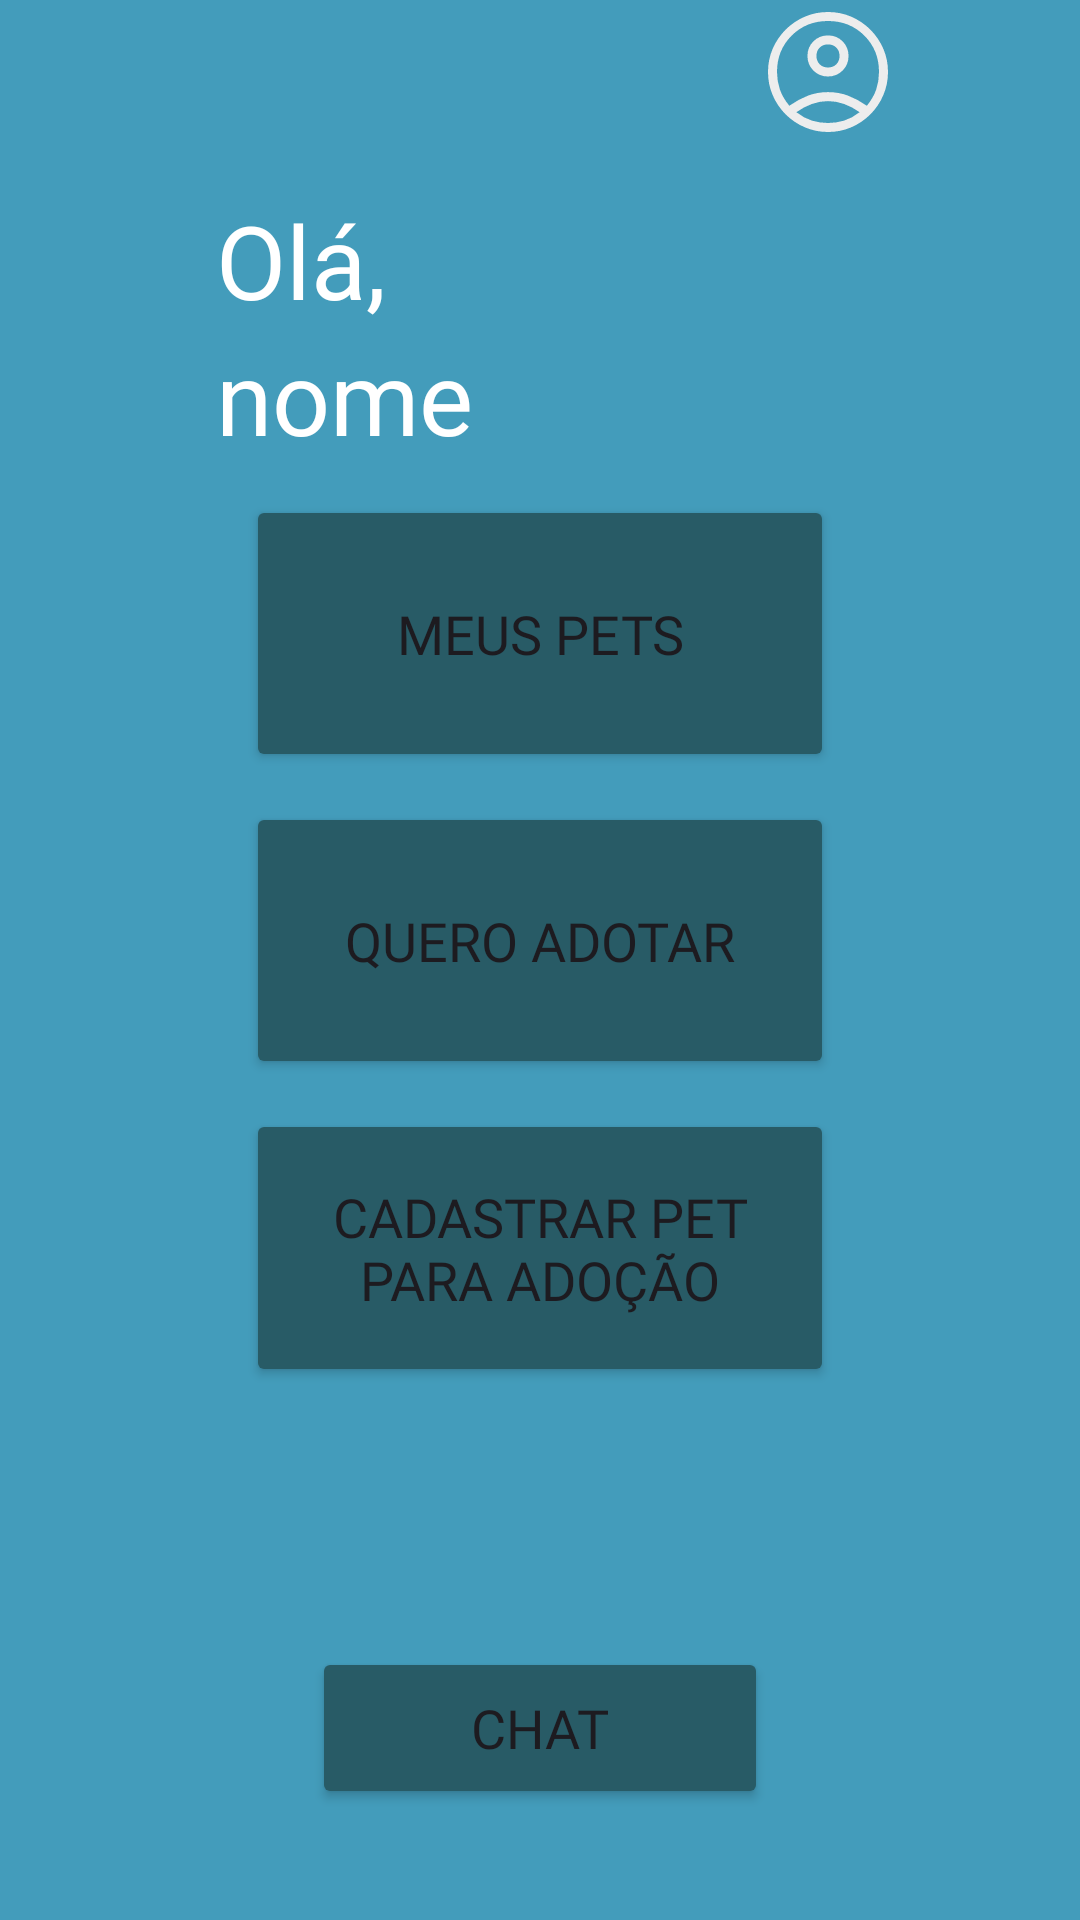

Locate icon controls on the screen. Image size 1080w x 1920h, boxes as (x1, y1, x2, y2).
account circle: (768, 12, 888, 132)
